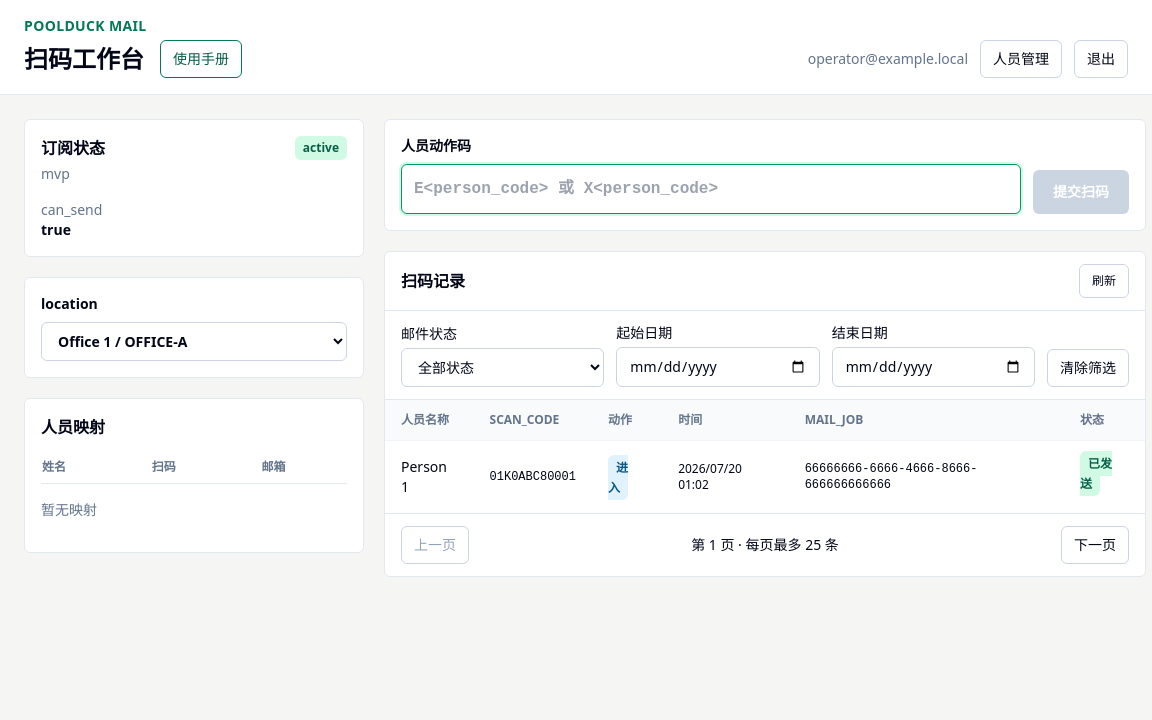
history workspace › refreshes and polls only the selected cursor page without appending duplicate records
Check: the text "Person 1" is shown, box [385, 440, 474, 513]
Click the button with test id "history-next" at (1095, 545), box [1061, 526, 1129, 564]
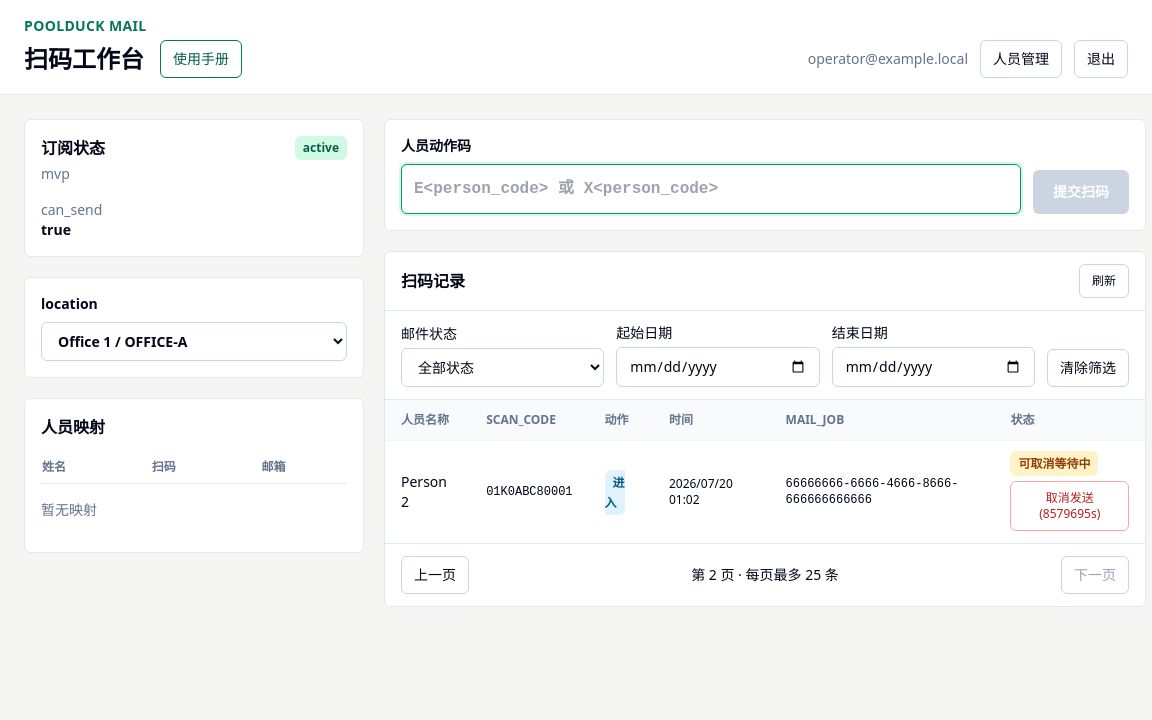
Check: the text "Person 2" is shown, box [385, 440, 470, 543]
Click the button with test id "history-refresh" at (1104, 281), box [1079, 264, 1129, 298]
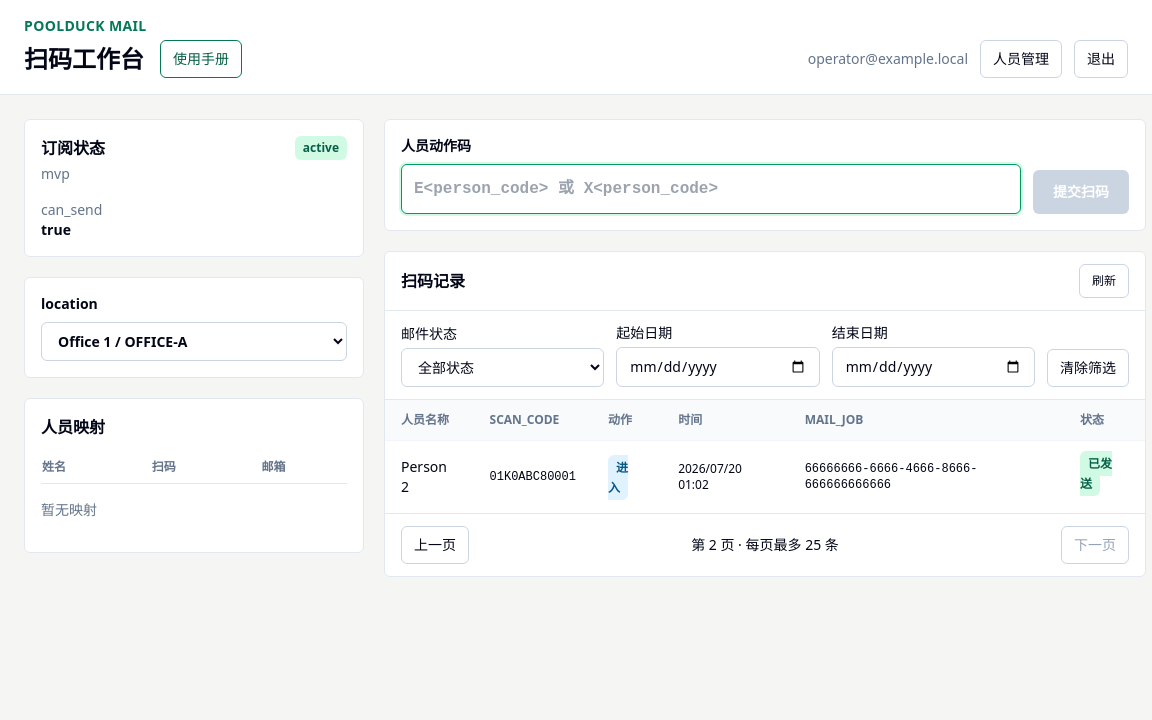
Check: the text "Person 1" is not shown
Check: the text with test id "mail-status" reads "已发送", box [1080, 455, 1112, 492]
